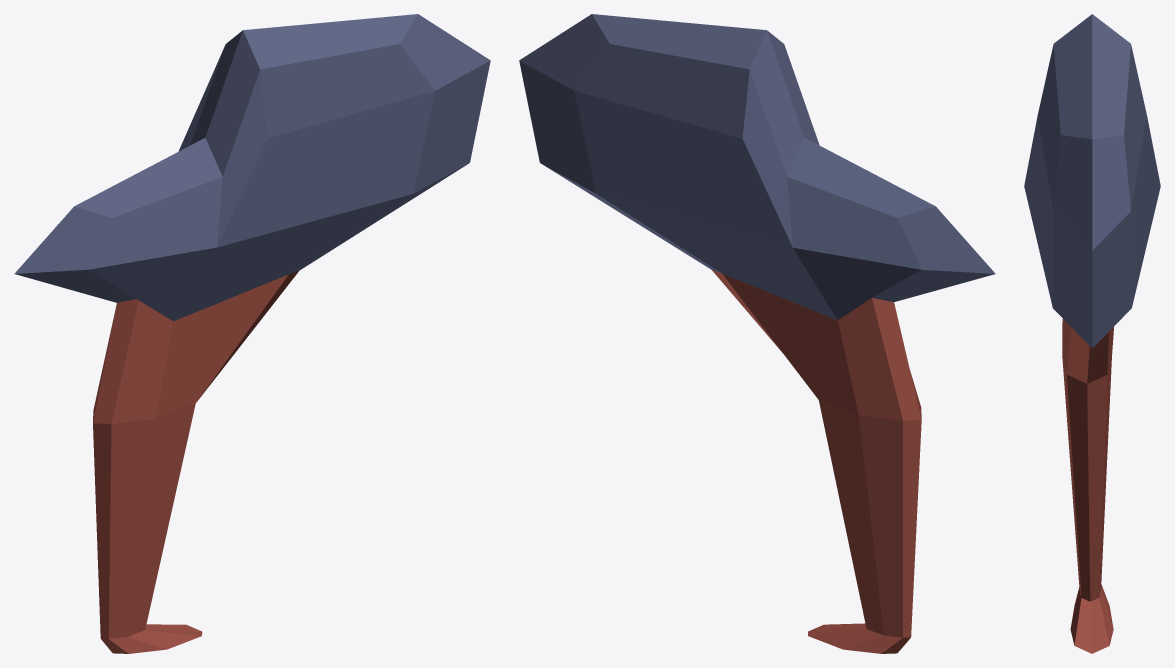
The model's file is Axe.fbx.
3 views of the same model, side by side, from view 1: azimuth 30°, elevation 25°; view 2: azimuth 150°, elevation 25°; view 3: azimuth 270°, elevation 25° (orthographic). The views are drawn at different scales.
Visible parts, largest first — view 1: Cube; view 2: Cube; view 3: Cube.
Part boxes in pixels (x1,y1,x2,y2): Cube: [14, 14, 490, 653]; Cube: [519, 14, 995, 653]; Cube: [1024, 14, 1160, 653].
Size of the model in its own units: 91.42 by 108 by 20.27.
